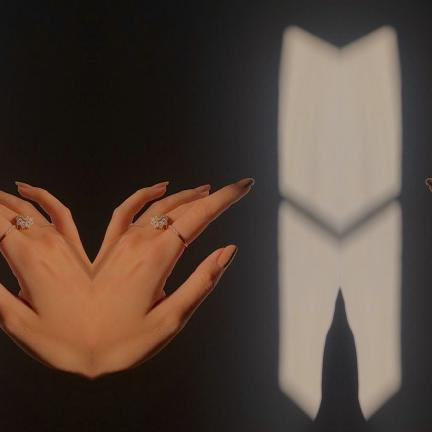Nail: (216, 245, 237, 269), (237, 178, 254, 186), (195, 184, 210, 192), (151, 182, 167, 188), (15, 182, 31, 188), (425, 178, 432, 186)
